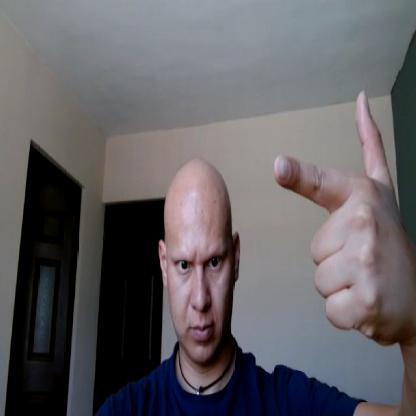G: (271, 87, 411, 346)
